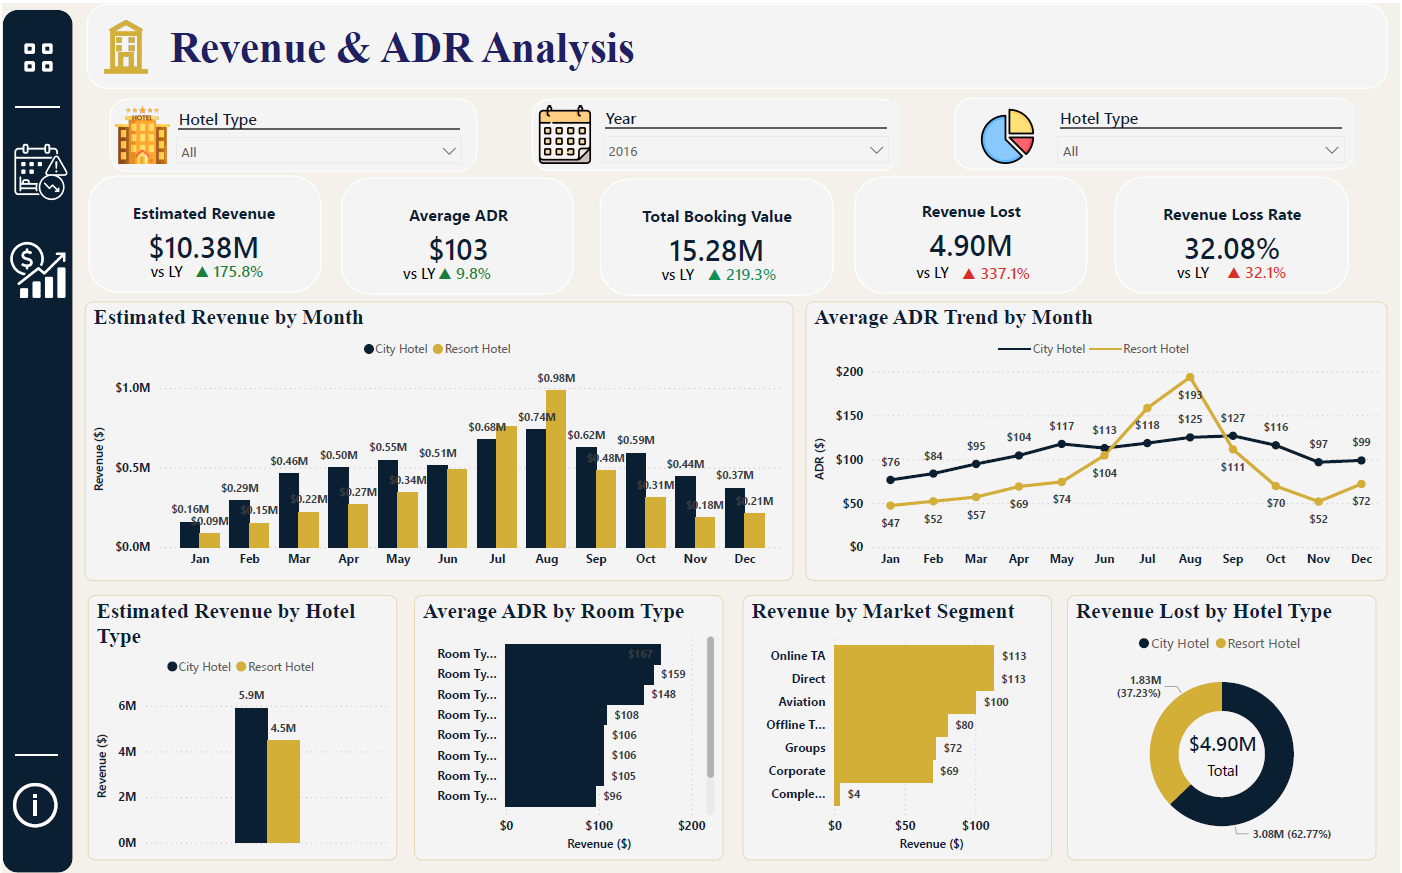

The dashboard page shown, as its layout file describes it:
{"tool":"powerbi","page":{"name":"Overview","canvas":[1400,870],"ordinal":0},"visuals":[{"type":"shape","box":[83.7,0,1303.1,85.2],"z":0},{"type":"image","box":[82.7,5.1,78.9,76.3],"z":1000},{"type":"textbox","box":[161.8,13.9,956.8,79.5],"z":2000},{"type":"shape","box":[0,5.8,70,864.5],"z":3000},{"type":"actionButton","box":[4.4,774.1,61.2,56.9],"z":4000},{"type":"image","box":[0,25.3,70,56.7],"z":5000},{"type":"image","box":[0,125,70,56],"z":6000},{"type":"image","box":[0,225,70,56],"z":7000},{"type":"image","box":[0,325,70,56],"z":8000},{"type":"image","box":[0,425,70,56],"z":9000},{"type":"shape","box":[13.3,82,43.4,43.4],"z":10000},{"type":"shape","box":[13.1,730.3,42.3,43.7],"z":11000},{"type":"shape","box":[107.1,95.3,368,72.4],"z":12000},{"type":"slicer","fields":{"Values":["public dim_hotel.hotel"]},"box":[162.6,98.9,307.6,63.9],"z":13000},{"type":"image","box":[107.1,102.5,65.1,57.9],"z":14000},{"type":"shape","box":[530.2,94.6,368,72.4],"z":15000},{"type":"slicer","fields":{"Values":["public dim_date.year"]},"box":[591.3,98.1,307.2,63.5],"z":16000},{"type":"image","box":[530.2,101.9,65.1,57.9],"z":17000},{"type":"shape","box":[952.7,93.5,401.5,72],"z":18000},{"type":"slicer","fields":{"Values":["public dim_hotel.hotel"]},"box":[1046.3,97.9,308,63.3],"z":19000},{"type":"image","box":[974.3,103.6,64.8,57.6],"z":20000},{"type":"shape","box":[82.8,173.8,233.6,116.8],"z":21000},{"type":"cardVisual","fields":{"Data":["fact_bookings.Total Bookings"]},"box":[89.6,180.6,221.4,100.5],"z":22000},{"type":"cardVisual","fields":{"Data":["fact_bookings.Total Bookings vs LY Label"]},"box":[127.7,232.2,183.4,65.2],"z":23000},{"type":"textbox","box":[139.9,254,48.9,36.7],"z":24000},{"type":"shape","box":[354.6,173,233.6,116.8],"z":25000},{"type":"cardVisual","fields":{"Data":["measure.Confirmed Bookings"]},"box":[361.4,179.8,221.4,100.5],"z":26000},{"type":"cardVisual","fields":{"Data":["measure.Confirmed Bookings vs LY Label"]},"box":[399.4,231.4,183.4,65.2],"z":27000},{"type":"textbox","box":[411.7,253.1,48.9,36.7],"z":28000},{"type":"shape","box":[626,171.8,233.6,116.8],"z":29000},{"type":"cardVisual","fields":{"Data":["measure.Cancelled Bookings"]},"box":[632.8,178.6,221.4,100.5],"z":30000},{"type":"cardVisual","fields":{"Data":["measure.Cancelled Bookings vs LY Label"]},"box":[670.9,228.2,183.6,65.5],"z":31000},{"type":"textbox","box":[683,251.9,48.9,36.7],"z":32000},{"type":"shape","box":[890.5,173.9,233.6,116.8],"z":33000},{"type":"cardVisual","fields":{"Data":["measure.Average ADR"]},"box":[897.3,180.7,221.4,100.5],"z":34000},{"type":"cardVisual","fields":{"Data":["measure.Average ADR vs LY Label"]},"box":[935.3,232.3,183.4,65.2],"z":35000},{"type":"textbox","box":[947.5,254.1,48.9,36.7],"z":36000},{"type":"shape","box":[1150.3,172.3,233.6,116.8],"z":37000},{"type":"cardVisual","fields":{"Data":["measure.Total Estimated Revenue"]},"box":[1155.9,178.8,220.6,100.9],"z":38000},{"type":"cardVisual","fields":{"Data":["measure.Total Estimated Revenue vs LY Label"]},"box":[1199.9,230.1,183.8,64.3],"z":39000},{"type":"textbox","box":[1207.3,252.4,48.9,36.7],"z":40000},{"type":"lineChart","title":"Booking Trend by Month","fields":{"Category":["dim_date.month_short"],"Y":["measure.Total Bookings"],"Series":["dim_hotel.hotel"]},"box":[83.7,298.5,680.6,258],"z":41000},{"type":"columnChart","title":"Booking by Hotel Type","fields":{"Category":["dim_hotel.hotel"],"Y":["measure.Total Bookings"]},"box":[781,295.7,295.7,260.8],"z":42000},{"type":"columnChart","title":"Cancelation Rate by Hotel Type","fields":{"Category":["dim_hotel.hotel"],"Y":["measure.Cancellation Rate"]},"box":[1087.9,295.7,295.7,260.8],"z":43000},{"type":"clusteredColumnChart","title":"Estimated Revenue by Month","fields":{"Category":["dim_date.month_short"],"Series":["dim_hotel.hotel"],"Y":["measure.Total Estimated Revenue"]},"box":[83.1,570,793,282.8],"z":44000},{"type":"donutChart","title":"Booking by Market Segment","fields":{"Category":["fact_bookings.booking_status"],"Y":["measure.Total Bookings"]},"box":[890.7,570,495.6,282.8],"z":45000}]}

Visuals, with their boxes on the page's 1400x870 design canvas (x1, y1, x2, y2). These are canvas units, not pixel positions in the 1402x873 screenshot, which may show the page scaled, cropped or inside an application window:
shape: (84, 0, 1387, 85)
image: (83, 5, 162, 81)
textbox: (162, 14, 1119, 93)
shape: (0, 6, 70, 870)
actionButton: (4, 774, 66, 831)
image: (0, 25, 70, 82)
image: (0, 125, 70, 181)
image: (0, 225, 70, 281)
image: (0, 325, 70, 381)
image: (0, 425, 70, 481)
shape: (13, 82, 57, 125)
shape: (13, 730, 55, 774)
shape: (107, 95, 475, 168)
slicer - public dim_hotel.hotel: (163, 99, 470, 163)
image: (107, 102, 172, 160)
shape: (530, 95, 898, 167)
slicer - public dim_date.year: (591, 98, 898, 162)
image: (530, 102, 595, 160)
shape: (953, 94, 1354, 166)
slicer - public dim_hotel.hotel: (1046, 98, 1354, 161)
image: (974, 104, 1039, 161)
shape: (83, 174, 316, 291)
cardVisual - fact_bookings.Total Bookings: (90, 181, 311, 281)
cardVisual - fact_bookings.Total Bookings vs LY Label: (128, 232, 311, 297)
textbox: (140, 254, 189, 291)
shape: (355, 173, 588, 290)
cardVisual - measure.Confirmed Bookings: (361, 180, 583, 280)
cardVisual - measure.Confirmed Bookings vs LY Label: (399, 231, 583, 297)
textbox: (412, 253, 461, 290)
shape: (626, 172, 860, 289)
cardVisual - measure.Cancelled Bookings: (633, 179, 854, 279)
cardVisual - measure.Cancelled Bookings vs LY Label: (671, 228, 854, 294)
textbox: (683, 252, 732, 289)
shape: (890, 174, 1124, 291)
cardVisual - measure.Average ADR: (897, 181, 1119, 281)
cardVisual - measure.Average ADR vs LY Label: (935, 232, 1119, 298)
textbox: (948, 254, 996, 291)
shape: (1150, 172, 1384, 289)
cardVisual - measure.Total Estimated Revenue: (1156, 179, 1376, 280)
cardVisual - measure.Total Estimated Revenue vs LY Label: (1200, 230, 1384, 294)
textbox: (1207, 252, 1256, 289)
"Booking Trend by Month" lineChart: (84, 298, 764, 556)
"Booking by Hotel Type" columnChart: (781, 296, 1077, 556)
"Cancelation Rate by Hotel Type" columnChart: (1088, 296, 1384, 556)
"Estimated Revenue by Month" clusteredColumnChart: (83, 570, 876, 853)
"Booking by Market Segment" donutChart: (891, 570, 1386, 853)
